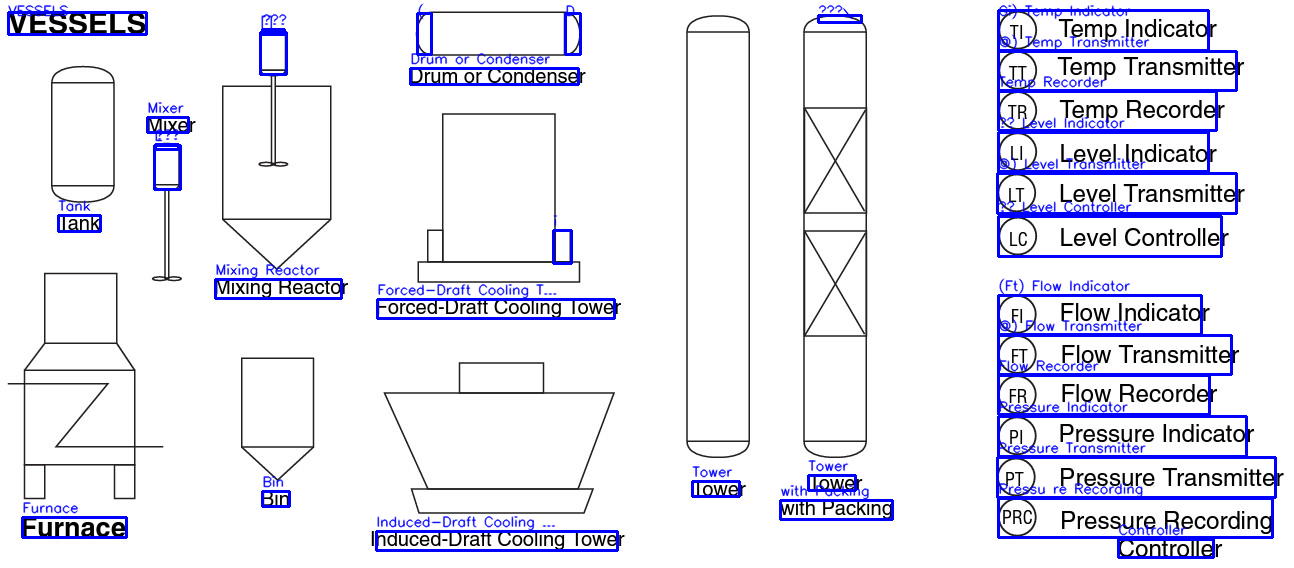Forno: (4, 267, 167, 505)
Misturador: (217, 25, 337, 273), (146, 137, 186, 286)
Outro: (379, 357, 617, 520), (796, 12, 875, 462), (682, 11, 753, 461), (411, 106, 579, 285), (232, 348, 321, 483), (409, 5, 589, 59)
Tanque: (45, 63, 119, 208)
